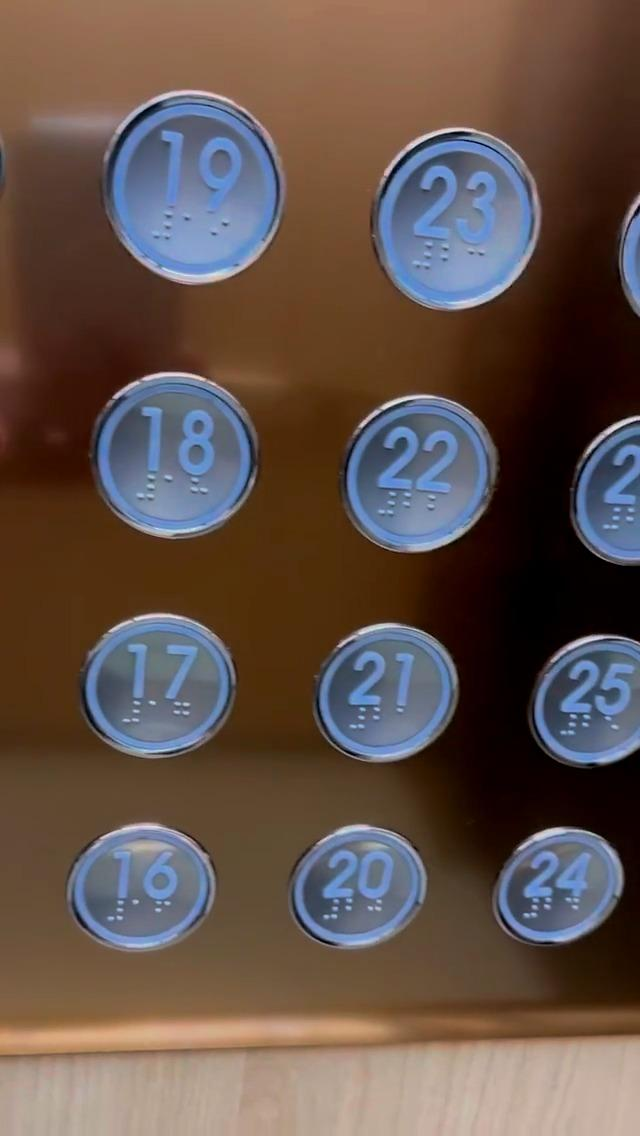button: (101, 77, 287, 291), (73, 367, 261, 540), (374, 124, 527, 326), (336, 399, 487, 566), (313, 634, 460, 776), (63, 819, 213, 949), (96, 623, 223, 766), (300, 827, 430, 956), (500, 817, 619, 951), (537, 624, 640, 774)
